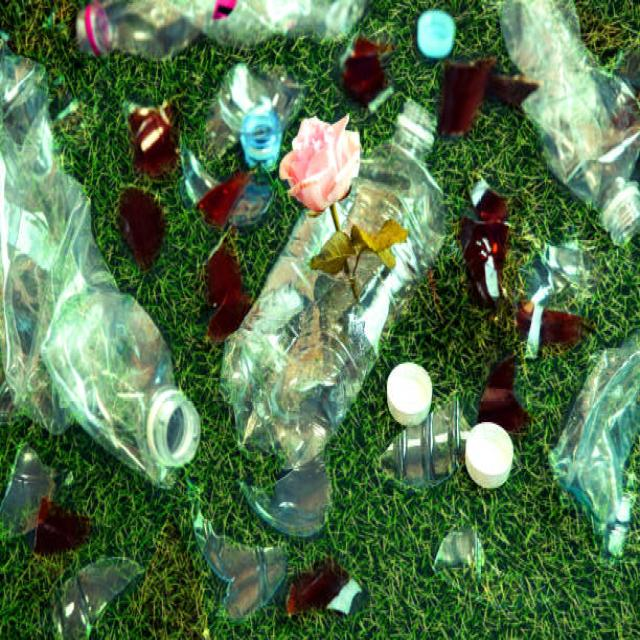glass: (191, 511, 292, 607), (458, 171, 522, 306), (380, 406, 461, 505), (350, 39, 390, 115), (466, 430, 509, 486)
plastic: (2, 82, 189, 494)
